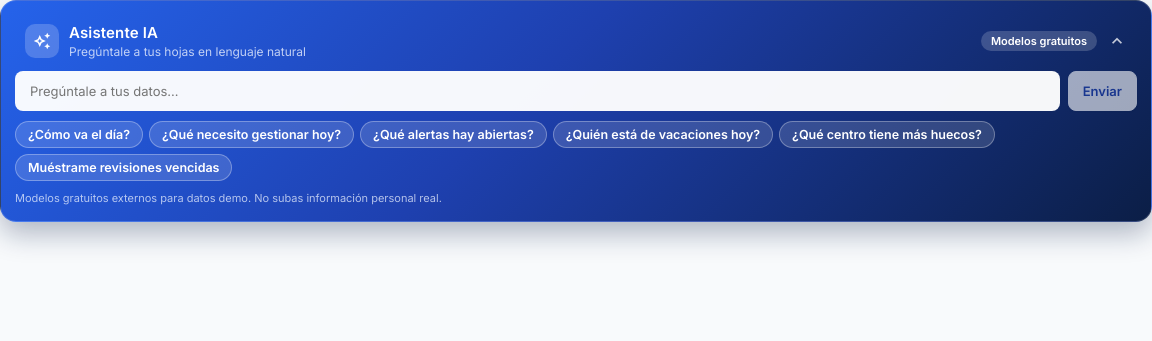
CopilotPanel › envia la pregunta y pinta la respuesta en streaming
Type "¿Cuántos empleados hay?" into the field named "pregunta al copiloto".
click(537, 91); type("¿Cuántos empleados hay?")  # box x1=15 y1=71 x2=1060 y2=111
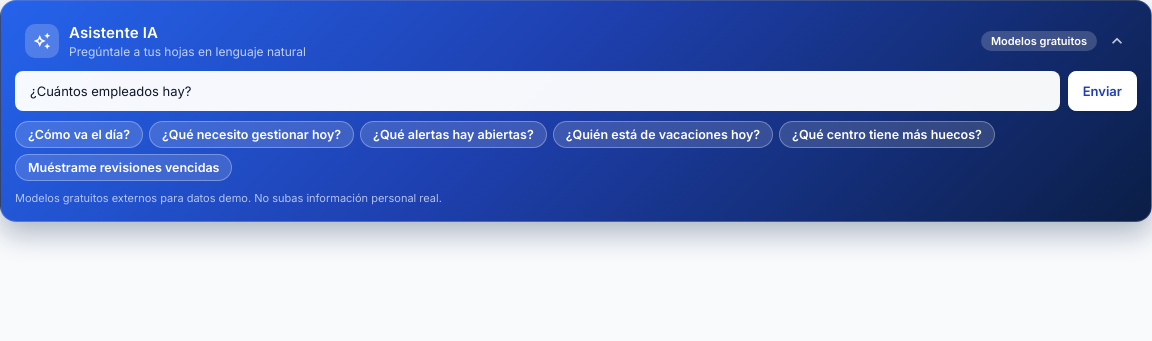
Press Enter in the field named "pregunta al copiloto", box x1=15 y1=71 x2=1060 y2=111
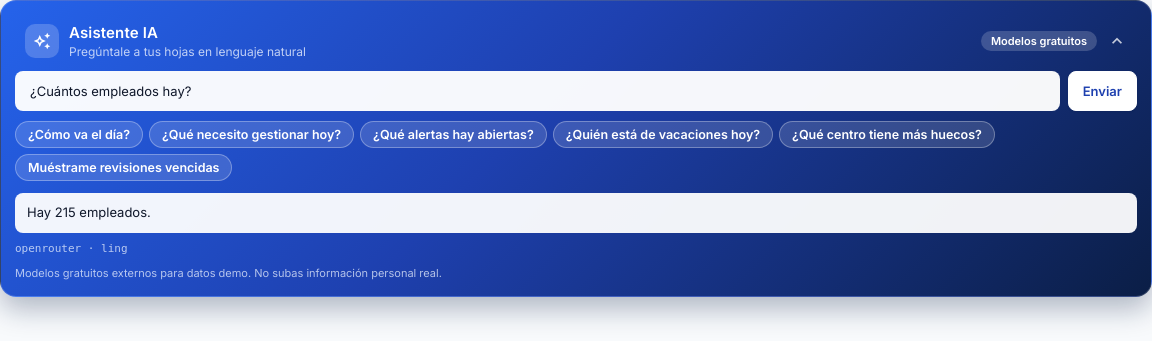
Expected: the text "Hay 215 empleados." is shown, x1=15 y1=193 x2=1137 y2=232
